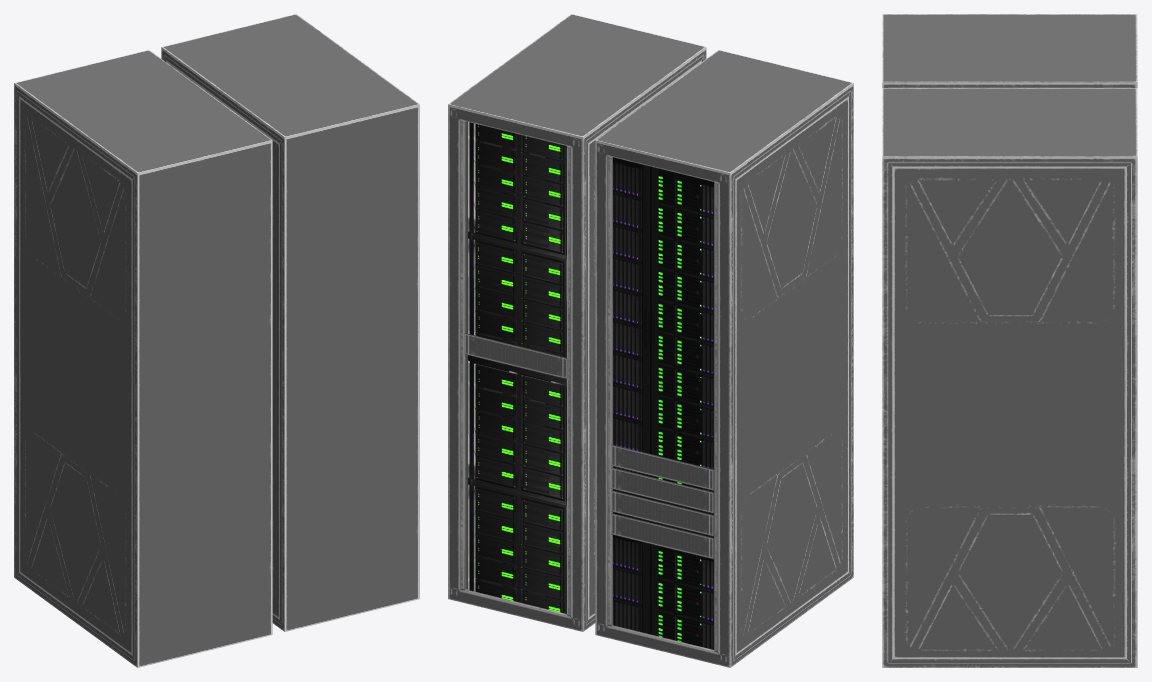
File: Server.fbx
3 renders of one model, left to right at view 1: azimuth 30°, elevation 25°; view 2: azimuth 150°, elevation 25°; view 3: azimuth 270°, elevation 25°, orthographic. The views are drawn at different scales.
Parts seen in each view (by area): view 1: RackServer_Pack__8_; view 2: RackServer_Pack__8_; view 3: RackServer_Pack__8_.
Part boxes in pixels (x1,y1,x2,y2): RackServer_Pack__8_: [14, 14, 419, 667]; RackServer_Pack__8_: [448, 14, 853, 667]; RackServer_Pack__8_: [882, 14, 1137, 667].
Size of the model in its own units: 209 by 350 by 158.
Materials: 2 (2 with a texture image).
